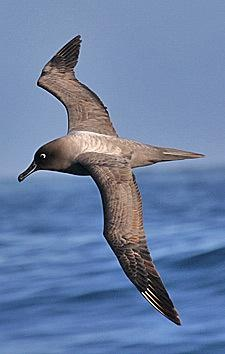bird: (18, 34, 207, 326)
